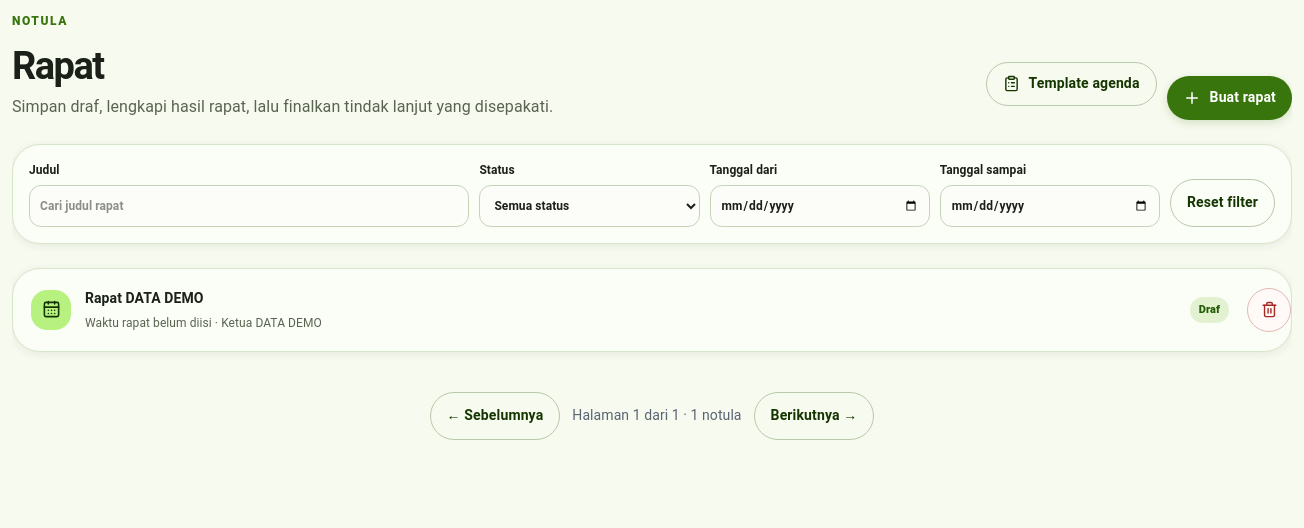
Scenario: aksi hapus draf pada daftar rapat › membersihkan pesan konflik setelah daftar berhasil dimuat ulang
Click the button named "Hapus notula Rapat DATA DEMO": (1269, 310) [1247,288,1291,332]
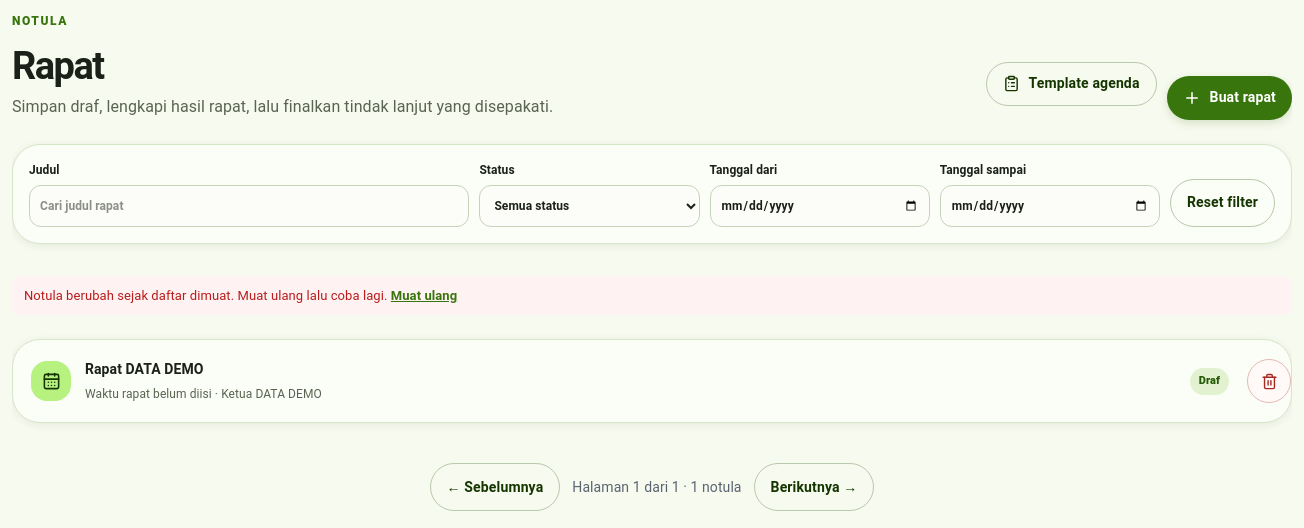
Check: the message shows "Notula berubah sejak daftar dimuat. Muat ulang lalu coba lagi.", box [24,288,388,303]
Click the button "Muat ulang": (424, 296) [391,286,457,305]
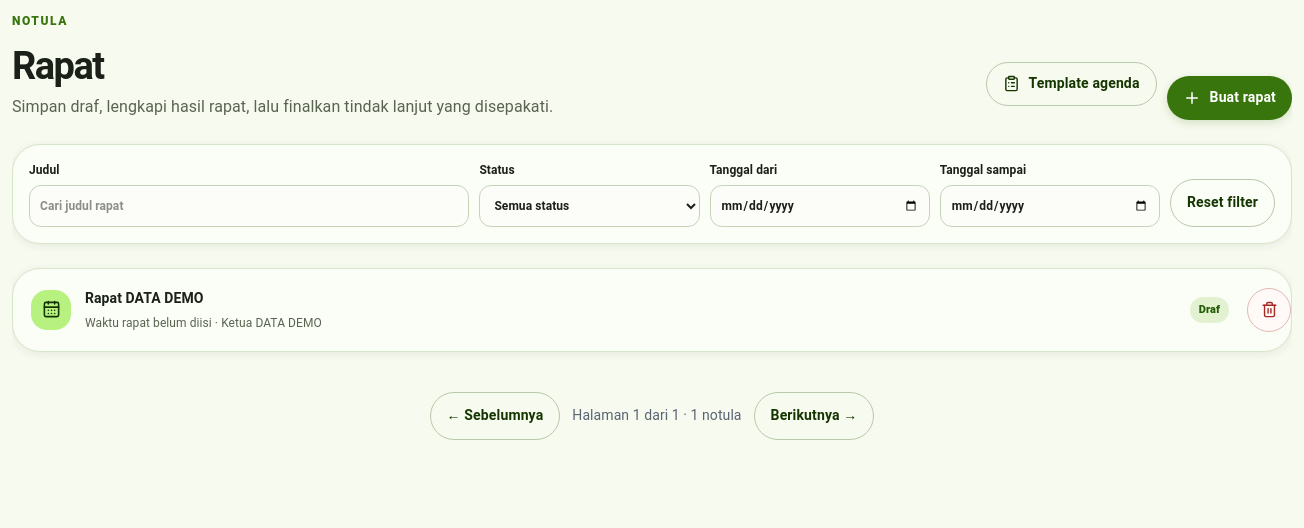
Check: the link "Rapat DATA DEMO" is shown, box [31,290,1229,330]
Check: the message "Notula berubah sejak daftar dimuat. Muat ulang lalu coba lagi. Muat ulang" is gone
